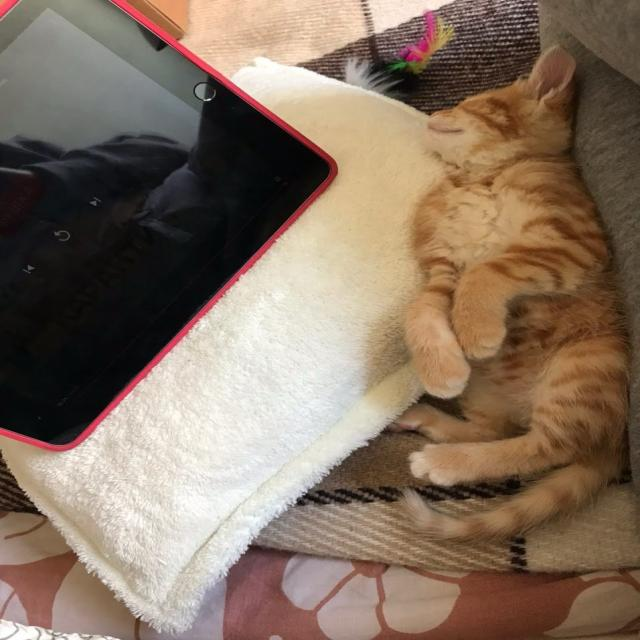red_cat: (412, 55, 638, 549)
